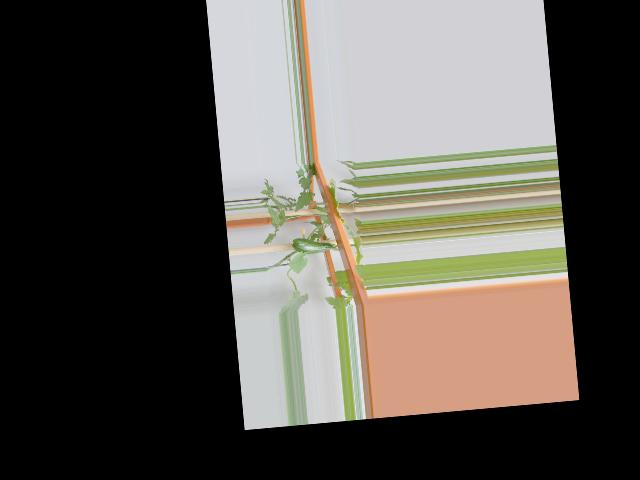cucumber: (288, 235, 331, 255)
